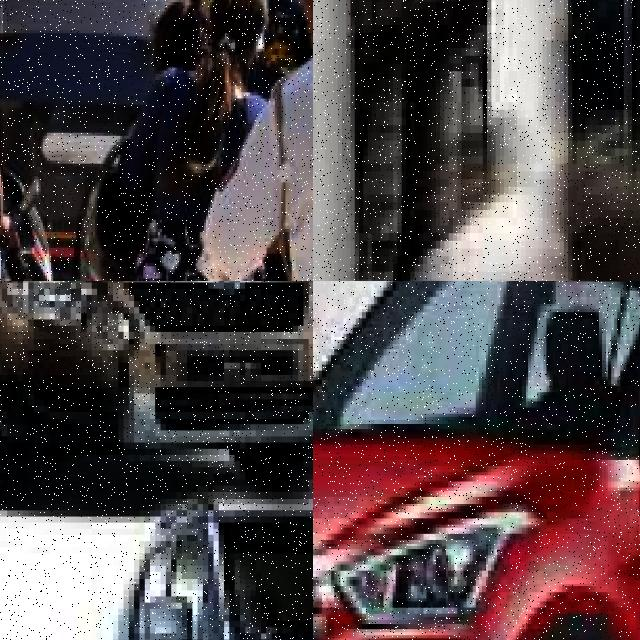bike: (367, 179, 640, 281)
car: (313, 281, 640, 640), (0, 281, 313, 498), (7, 473, 313, 640)
